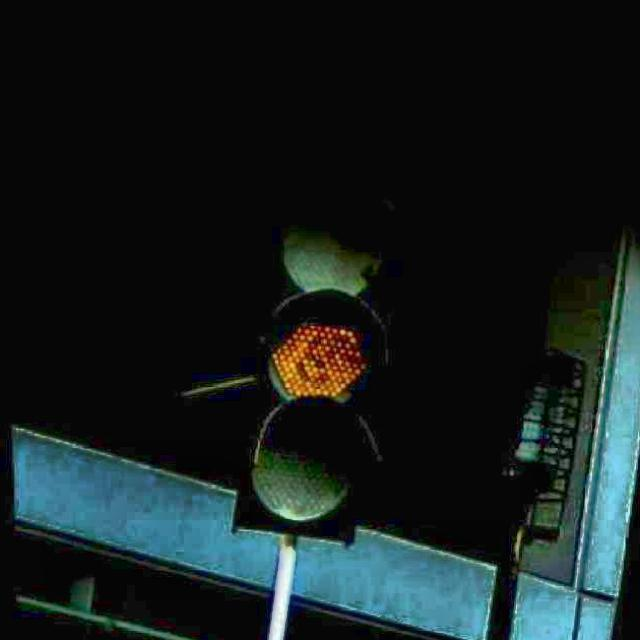yellow: (231, 226, 389, 538)
